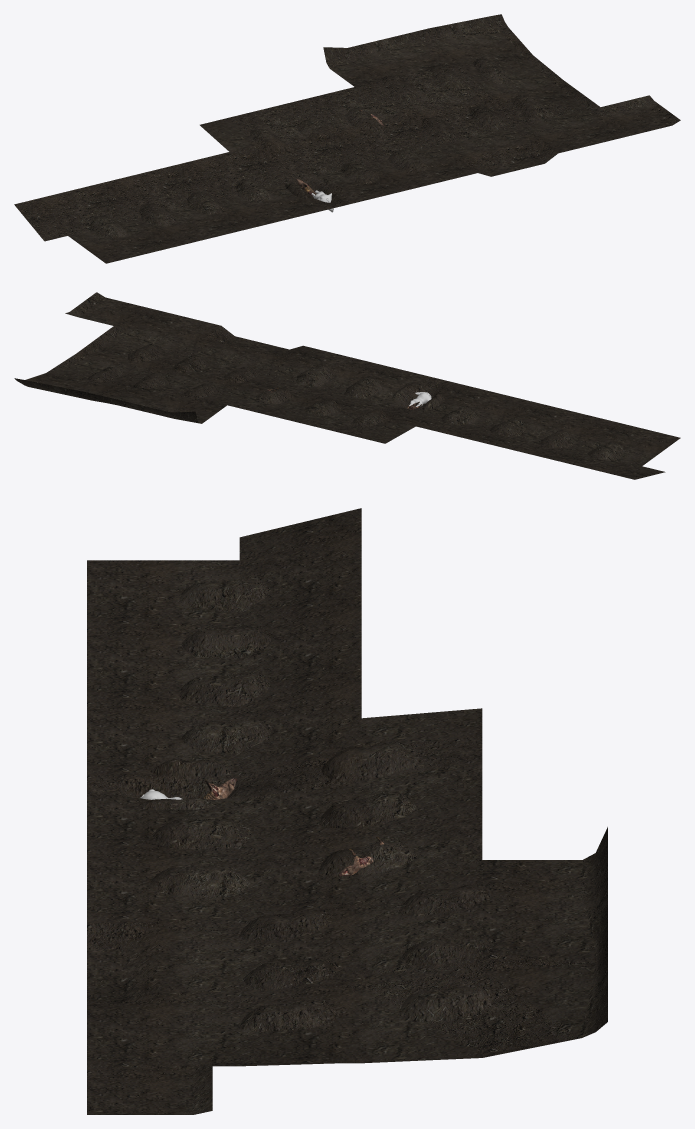
Rendered from graveyard.DAE.
The picture shows the model from 3 angles, top to bottom: view 1: azimuth 30°, elevation 25°; view 2: azimuth 150°, elevation 25°; view 3: azimuth 270°, elevation 25°; orthographic projection. The views are drawn at different scales.
Parts seen in each view (by area): view 1: Plane005; view 2: Plane005; view 3: Plane005.
Part boxes in pixels (x1,y1,x2,y2): Plane005: (14, 14, 680, 263); Plane005: (14, 292, 680, 479); Plane005: (87, 508, 607, 1114).
Size of the model in its own units: 47.43 by 4.04 by 17.9.
